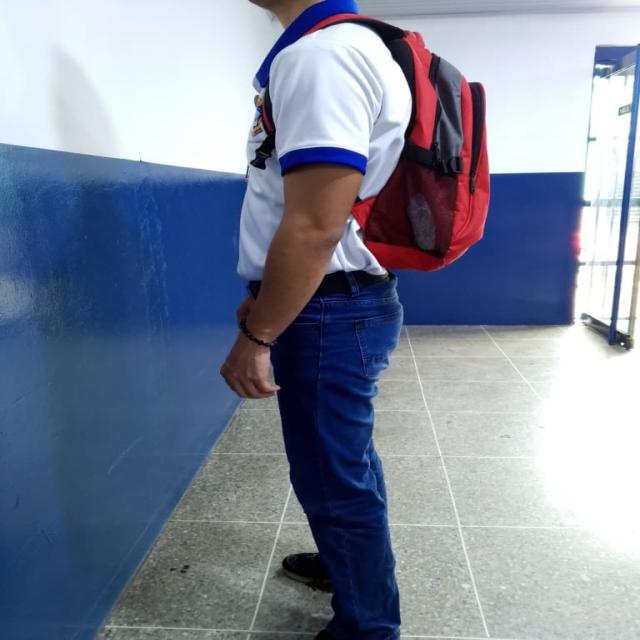pantalon_oscuro: (248, 274, 402, 638)
uniforme_superior: (239, 0, 412, 278)
